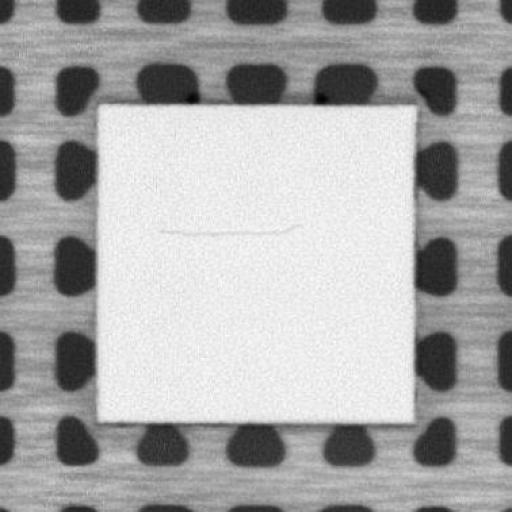DIE_CRACK: (156, 220, 303, 238)
